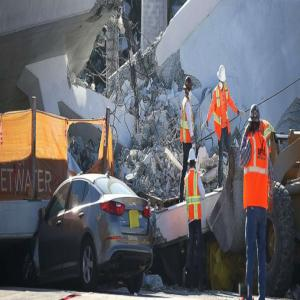blue: (250, 106, 261, 132), (185, 77, 193, 101)
white: (219, 64, 227, 89), (190, 149, 196, 169)
